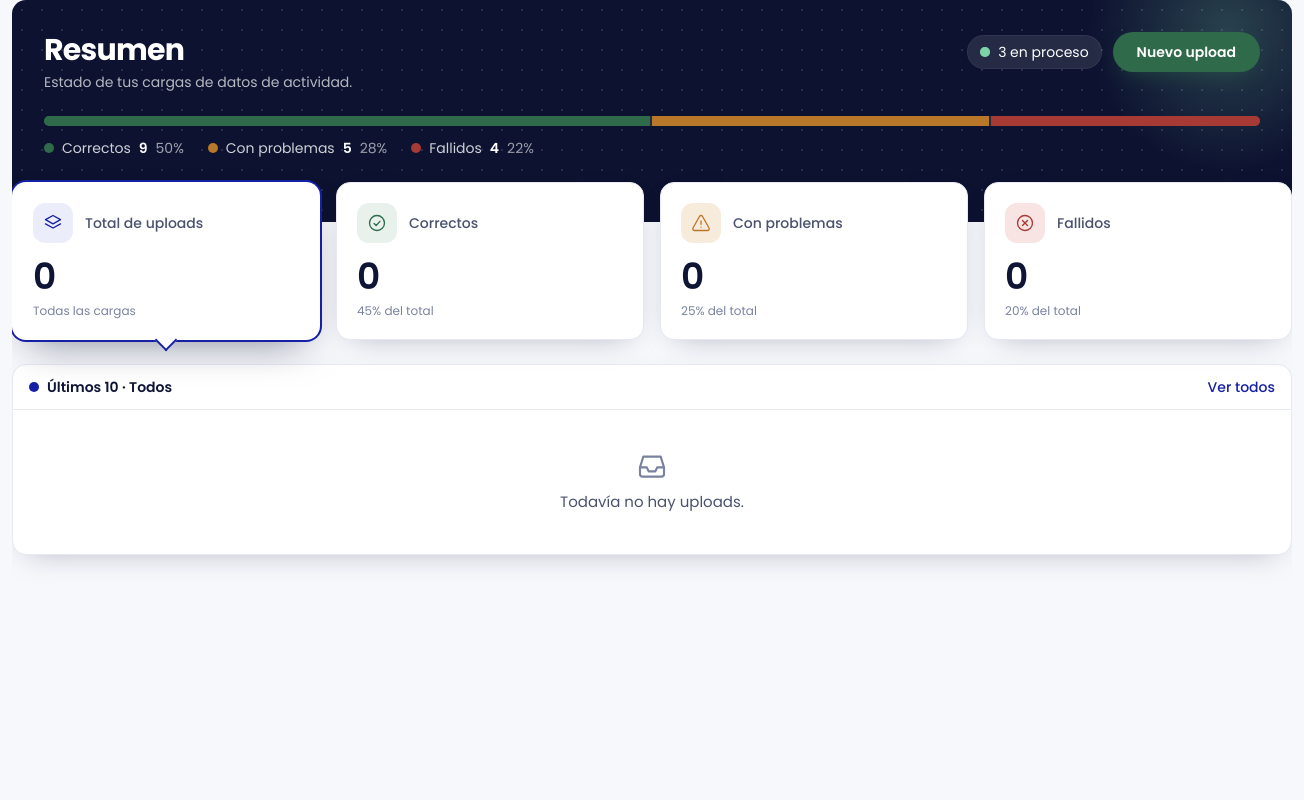
Test case: Dashboard › shows the outcome-specific empty state
Step 1. Click the tab "Fallidos 0 20% del total" → (1025, 223), box left=984, top=182, right=1292, bottom=340
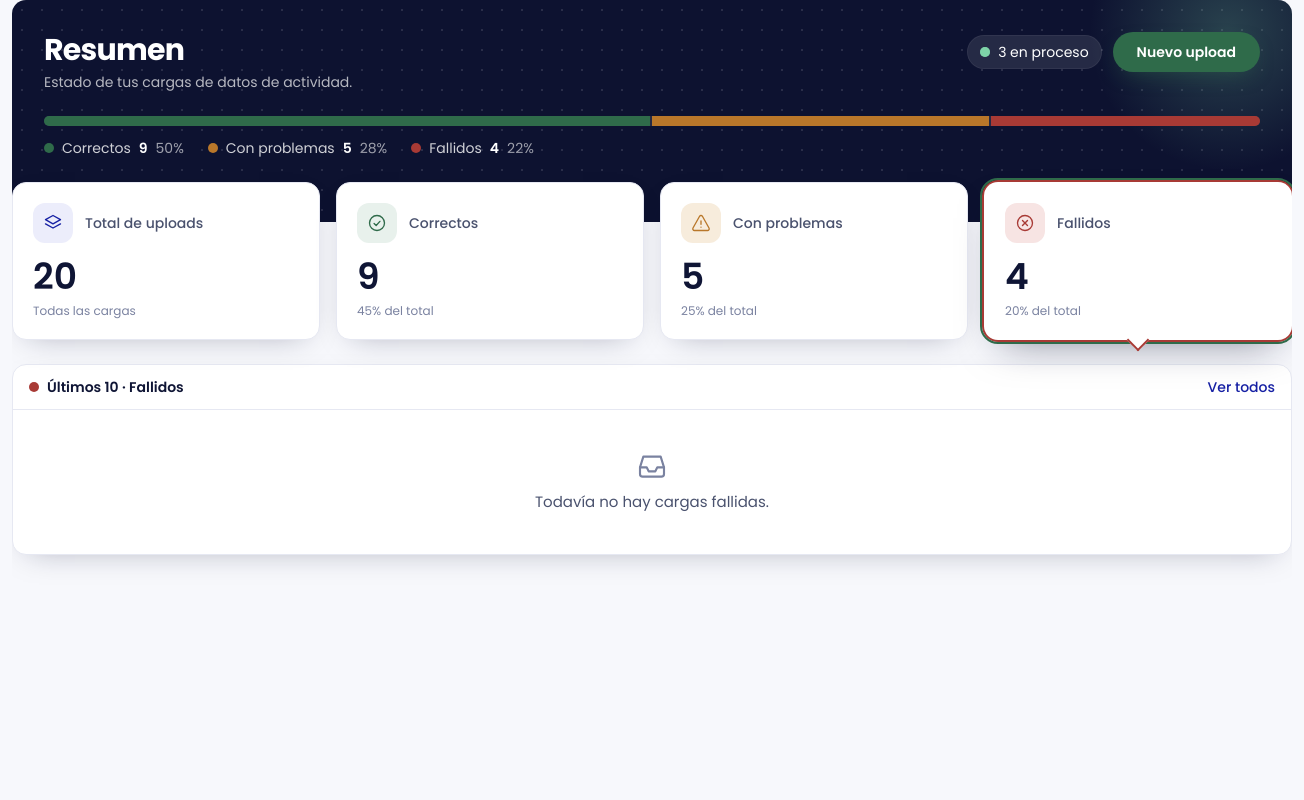
Expected: the text "Todavía no hay cargas fallidas." is shown, left=535, top=490, right=769, bottom=514
